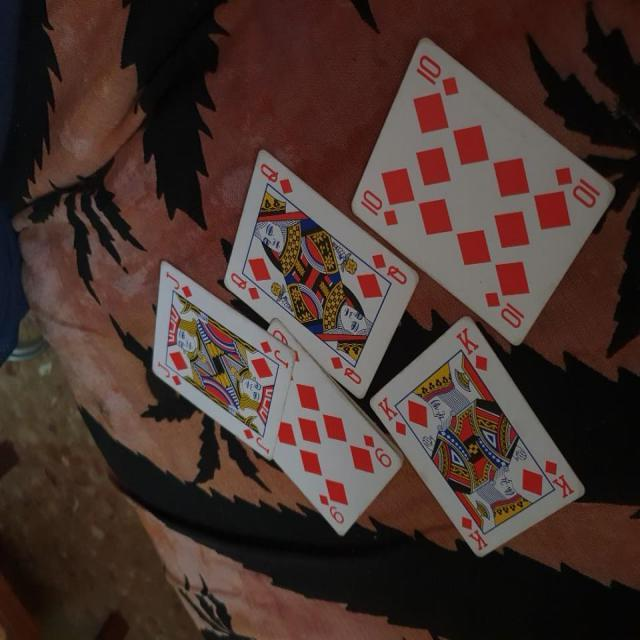10 of diamonds: (352, 34, 618, 346)
9 of diamonds: (264, 316, 407, 538)
jack of diamonds: (150, 259, 296, 462)
king of diamonds: (371, 314, 586, 562)
queen of diamonds: (222, 148, 422, 402)
